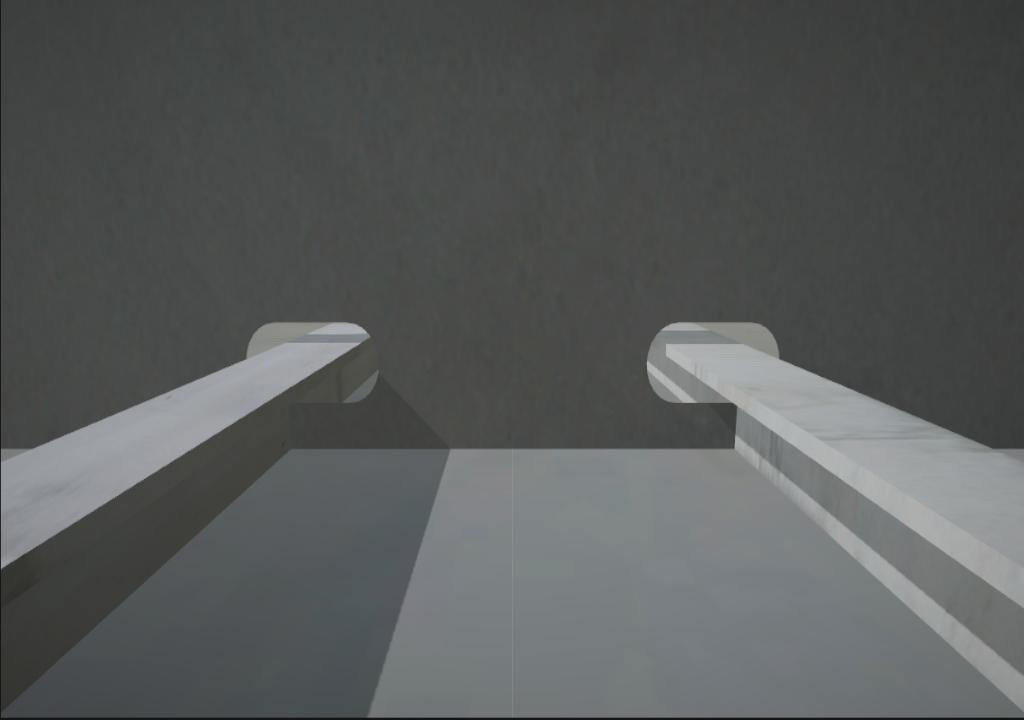fillet_yong_jeop_jang: (284, 435, 739, 455)
longi_yong_jeop_jang: (282, 396, 303, 459), (726, 403, 743, 461)
